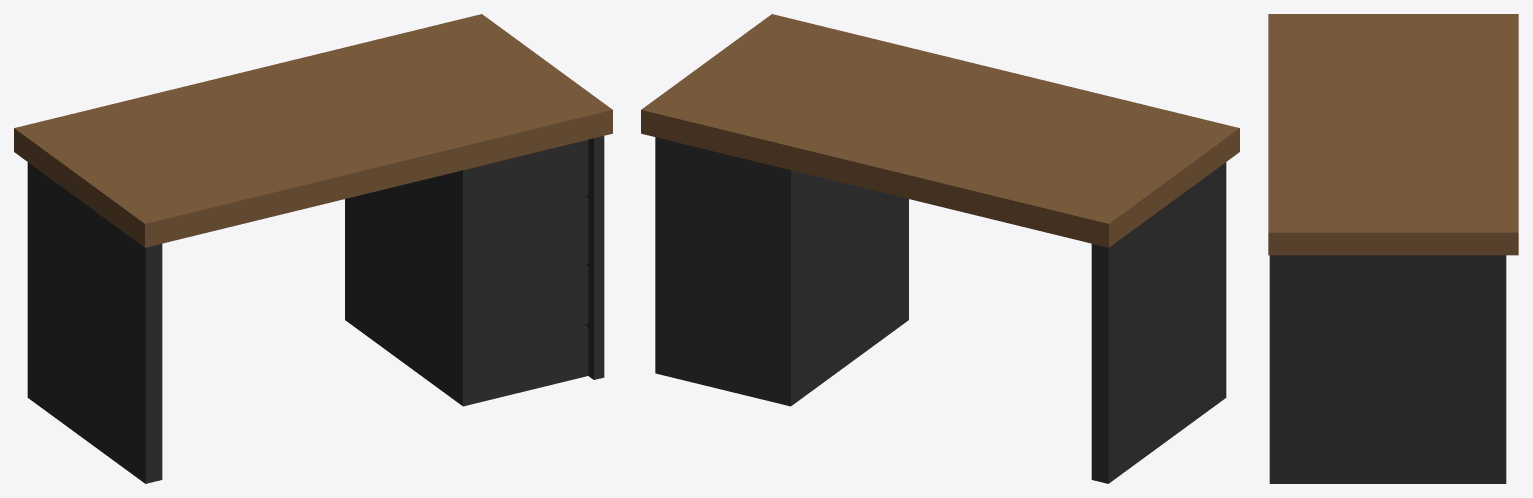
File: Desk_2B.fbx
3 renders of one model, left to right at view 1: azimuth 30°, elevation 25°; view 2: azimuth 150°, elevation 25°; view 3: azimuth 270°, elevation 25°, orthographic. The views are drawn at different scales.
Parts seen in each view (by area): view 1: polySurface1704; view 2: polySurface1704; view 3: polySurface1704.
Boxes of the visible parts, x1=… form: polySurface1704: x1=14, y1=14, x2=612, y2=483; polySurface1704: x1=641, y1=14, x2=1239, y2=483; polySurface1704: x1=1268, y1=14, x2=1518, y2=483.
Size of the model in its own units: 1.68 by 0.9158 by 0.8157.
1 material, 1 textured.
